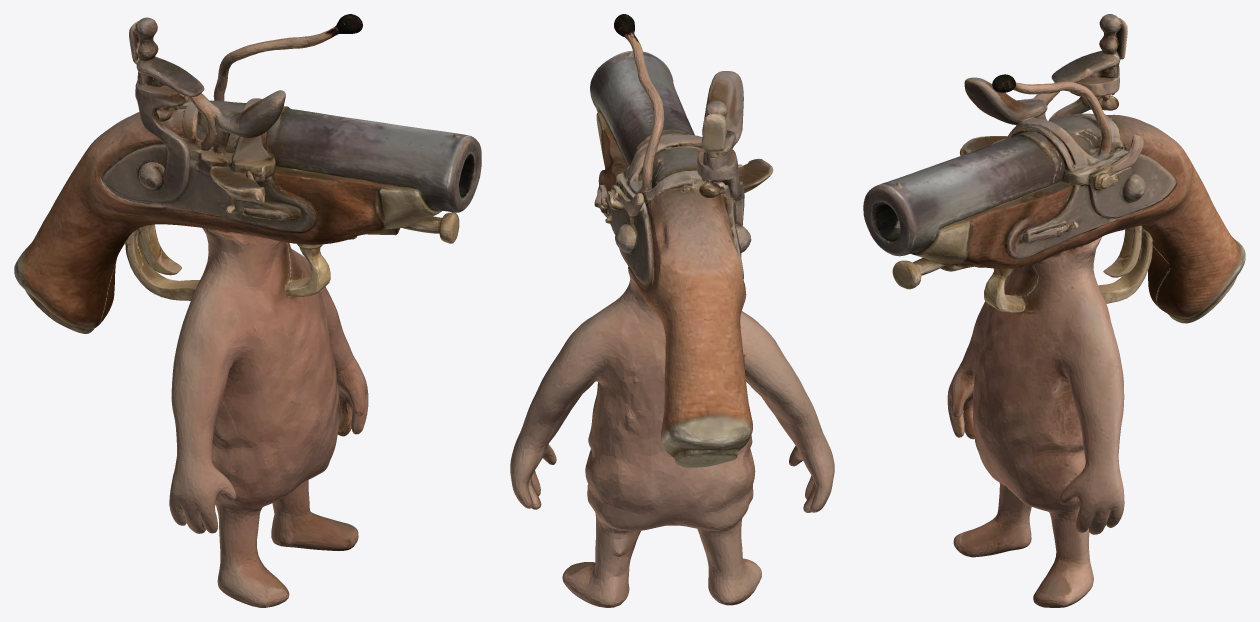
File: 銃のモデル.glb
The picture shows the model from 3 angles, left to right: view 1: azimuth 30°, elevation 25°; view 2: azimuth 150°, elevation 25°; view 3: azimuth 270°, elevation 25°; orthographic projection. The views are drawn at different scales.
Visible parts, largest first — view 1: world; view 2: world; view 3: world.
Boxes of the visible parts, bbox=[...] form: world: bbox=[14, 14, 481, 607]; world: bbox=[510, 14, 834, 607]; world: bbox=[863, 14, 1245, 607].
Bounding box in the file's own units: 1.16 × 1.99 × 1.32.
1 material, 1 textured.
